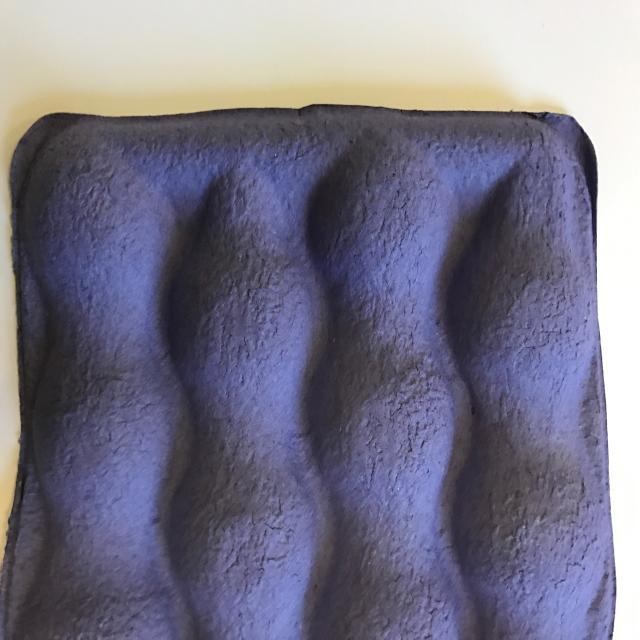paper: (5, 105, 617, 640)
